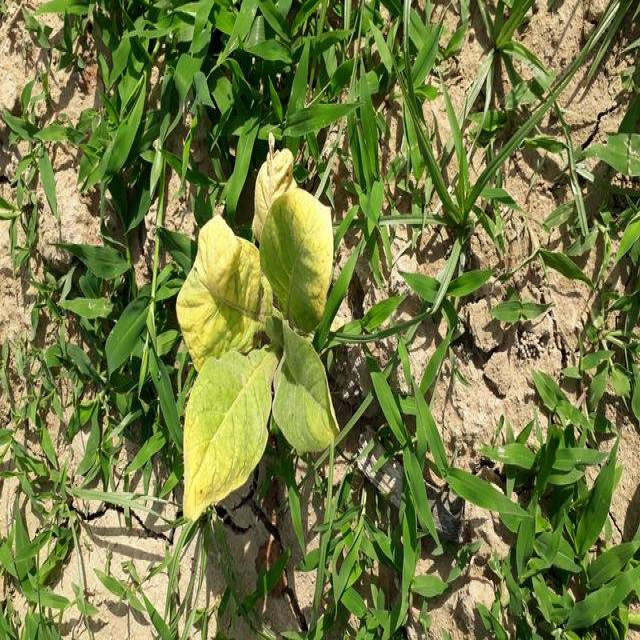crop: (180, 150, 336, 506)
